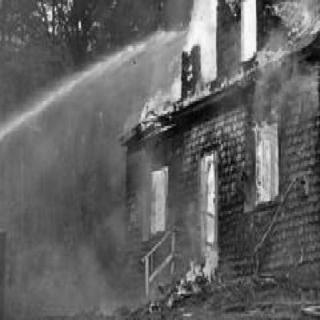Fire: (141, 155, 173, 237)
